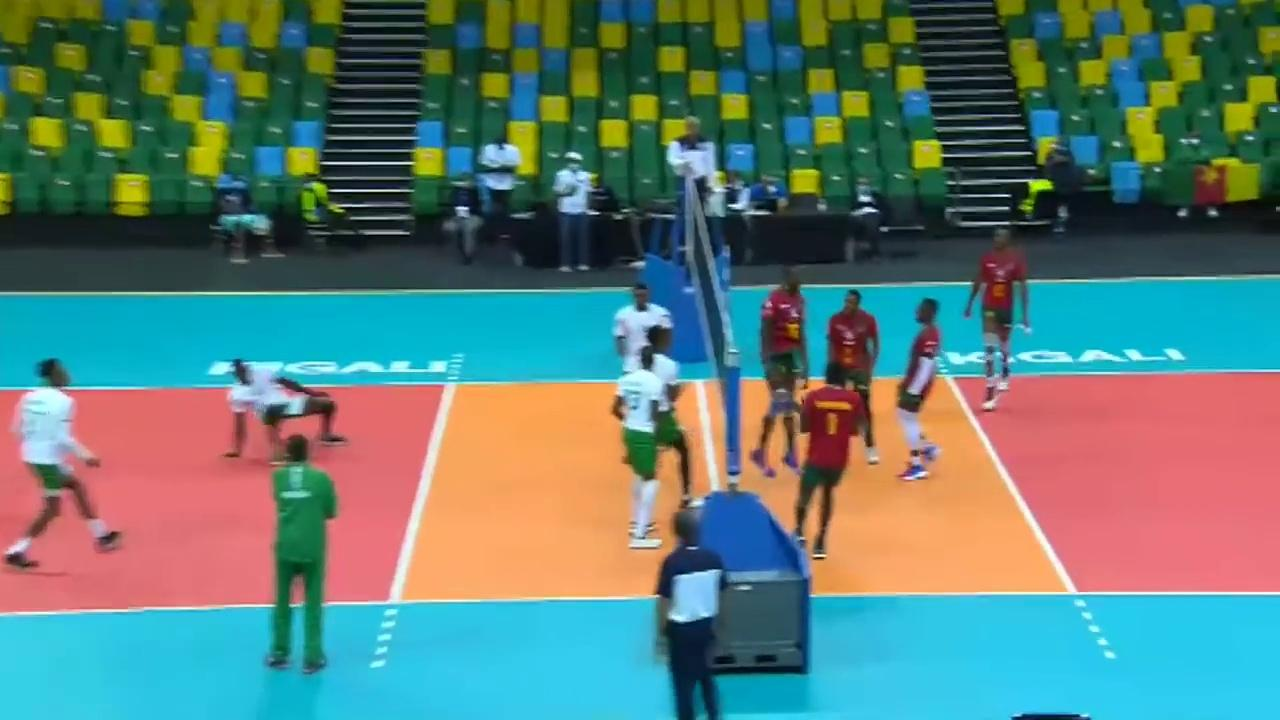player: (8, 356, 127, 569), (799, 357, 867, 571), (963, 222, 1038, 415), (220, 353, 350, 462), (630, 326, 706, 511), (751, 264, 815, 479), (819, 283, 894, 462), (606, 280, 679, 461), (614, 342, 666, 554), (891, 299, 952, 479)
refree: (645, 506, 739, 720), (664, 103, 722, 254)
